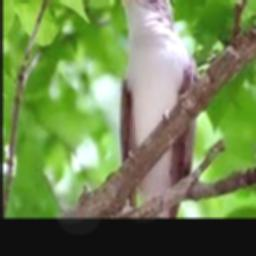Cuckoo: (103, 0, 199, 218)
